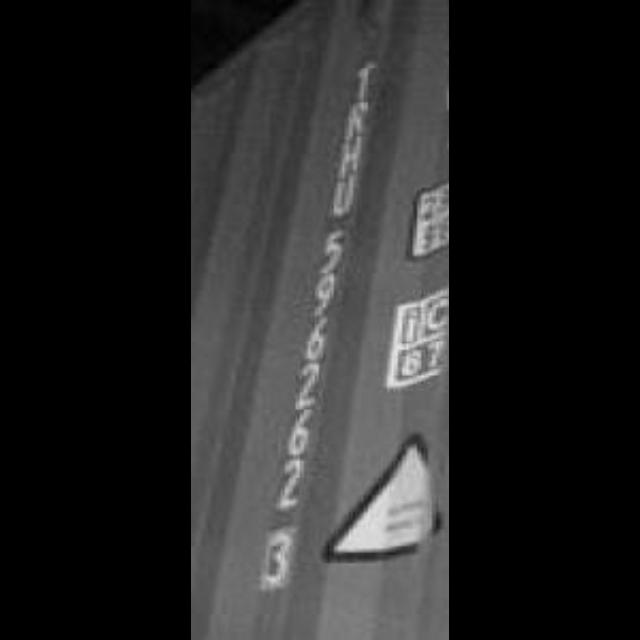2: (290, 360, 330, 418), (274, 452, 308, 512)
3: (256, 525, 300, 597)
5: (316, 225, 352, 278)
6: (280, 408, 324, 454), (296, 318, 338, 360)
7: (424, 334, 448, 376)
8: (398, 344, 428, 384)
9: (302, 274, 348, 328)
h: (331, 137, 371, 183)
r: (337, 99, 378, 141)
t: (342, 54, 388, 106)
u: (322, 179, 364, 221)
